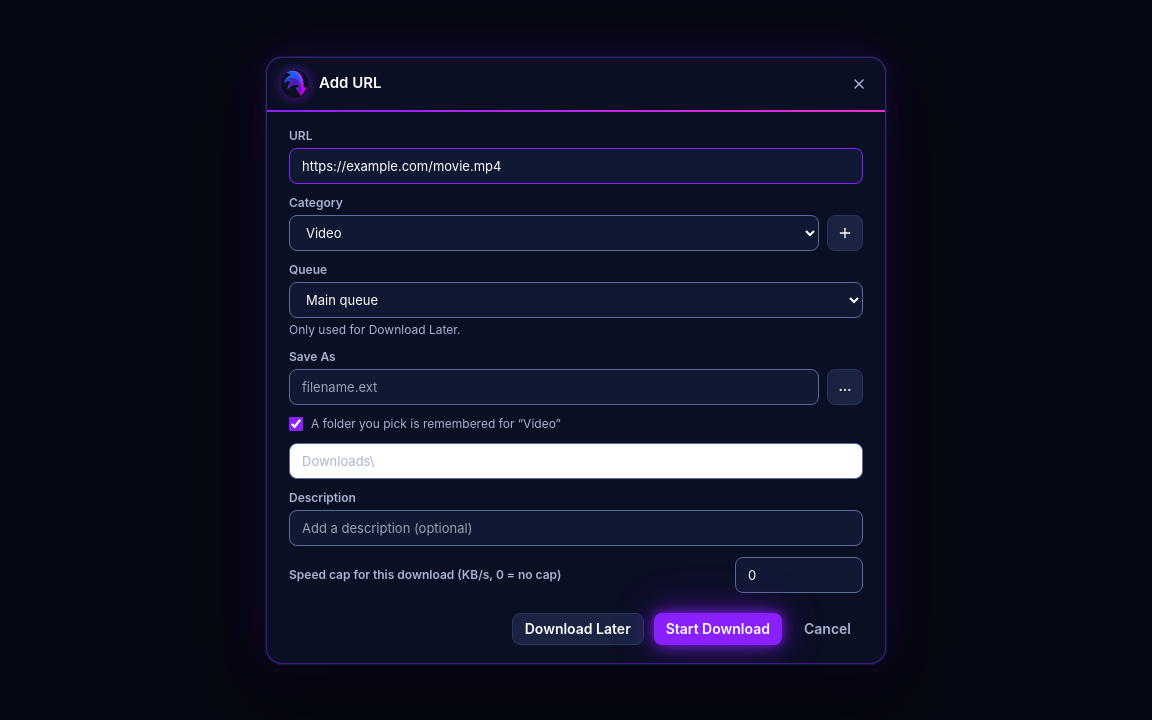
Test: category auto-pick (Round 87.5, E4) › a hand pick wins over a later filename change
Select "Documents" in the dropdown labelled "Category" at x=554, y=232, box [289, 214, 819, 250]
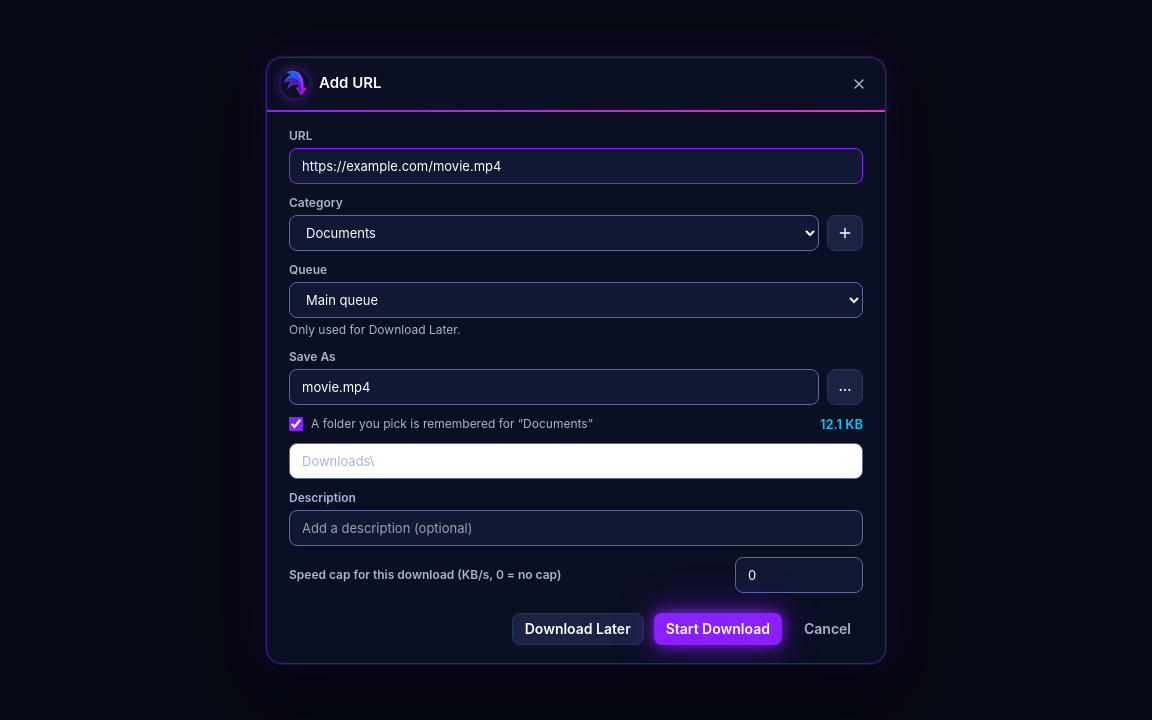
Check: the field labelled "Save As" holds "movie.mp4", box [289, 368, 819, 404]
